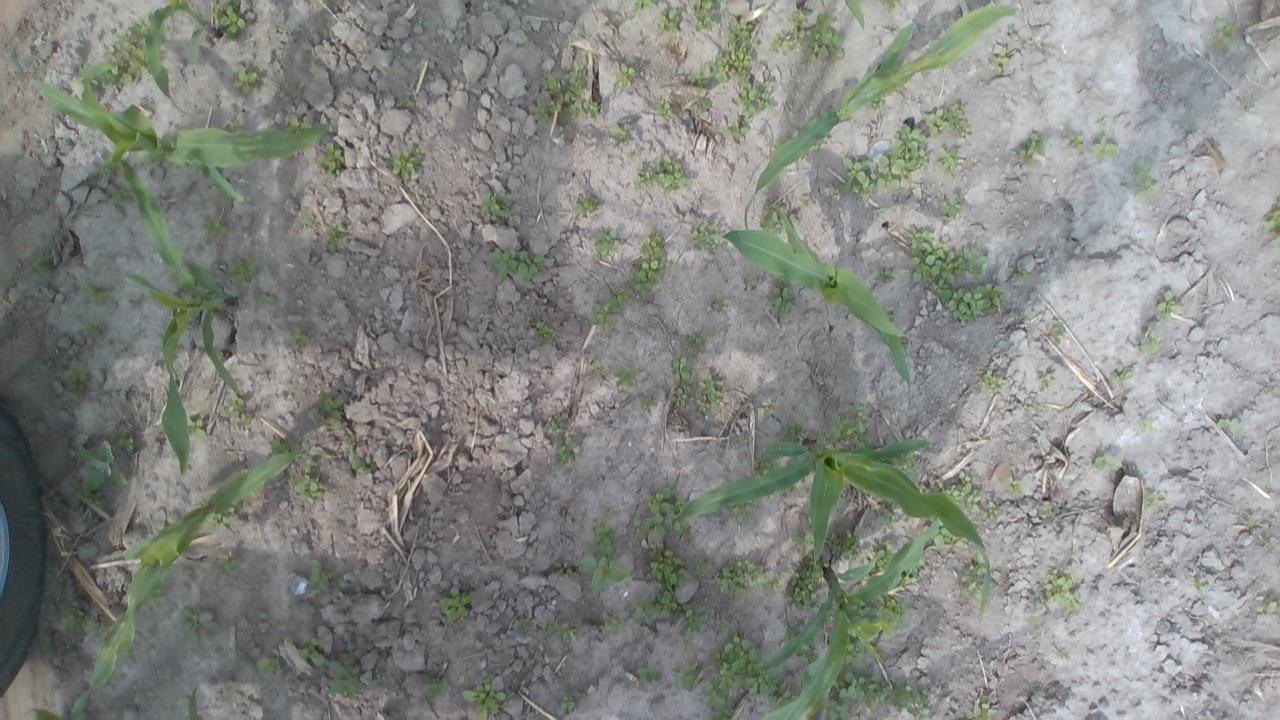Maize: (738, 0, 1021, 228), (666, 428, 994, 620), (70, 449, 296, 720), (105, 150, 240, 474), (28, 63, 332, 201), (695, 207, 912, 384), (754, 516, 941, 720), (142, 0, 220, 117), (29, 688, 210, 720), (796, 0, 891, 32)
Weeds: (701, 634, 798, 720), (906, 224, 989, 286), (531, 63, 603, 124), (577, 513, 632, 592), (92, 14, 148, 89), (927, 274, 1006, 326), (710, 14, 760, 82), (840, 154, 900, 210), (784, 10, 846, 62), (824, 666, 883, 720), (630, 487, 689, 538), (848, 590, 908, 638), (76, 440, 130, 493), (628, 234, 668, 298), (786, 553, 830, 610), (892, 122, 929, 187), (712, 560, 769, 600), (56, 600, 111, 640), (625, 588, 680, 628), (881, 677, 932, 720), (935, 468, 982, 514), (646, 542, 690, 590), (828, 405, 874, 449), (592, 287, 632, 336), (1039, 565, 1082, 610), (488, 249, 546, 282), (462, 678, 507, 720), (924, 100, 970, 138), (326, 650, 359, 699), (437, 584, 473, 626), (677, 600, 708, 647), (308, 390, 346, 428), (1008, 130, 1047, 167), (731, 77, 770, 114), (179, 606, 219, 642), (292, 460, 324, 503), (211, 2, 247, 40), (823, 529, 861, 565), (922, 516, 964, 548), (390, 144, 425, 182), (858, 542, 899, 574), (654, 156, 690, 192), (694, 374, 722, 415), (478, 190, 514, 221), (758, 203, 795, 233), (768, 278, 794, 320), (341, 441, 374, 474), (72, 480, 105, 512), (316, 141, 346, 176), (749, 447, 783, 477), (230, 63, 260, 97), (228, 392, 256, 428), (1206, 19, 1236, 52), (253, 646, 287, 674), (1154, 289, 1182, 321), (64, 356, 88, 393), (300, 632, 326, 666), (934, 144, 960, 178), (1134, 158, 1154, 202), (691, 222, 720, 252), (690, 0, 719, 30), (669, 662, 700, 690), (884, 450, 916, 477), (306, 557, 331, 591), (226, 256, 256, 284), (142, 576, 170, 606), (1088, 448, 1123, 472), (206, 506, 238, 532), (1093, 136, 1121, 165), (895, 559, 925, 586), (956, 575, 982, 606), (656, 7, 684, 35), (840, 640, 867, 669), (284, 108, 316, 132), (558, 432, 578, 470), (974, 368, 1007, 391), (532, 317, 560, 344), (1138, 330, 1166, 356), (596, 230, 620, 260), (82, 282, 112, 306), (731, 498, 757, 525), (1141, 483, 1169, 508), (637, 664, 666, 688), (724, 117, 749, 144), (683, 329, 711, 353), (184, 415, 210, 440), (780, 420, 806, 445), (422, 674, 449, 698), (214, 556, 243, 578), (203, 216, 227, 242), (942, 193, 962, 224), (798, 634, 820, 662), (602, 609, 624, 637), (557, 622, 585, 644), (324, 223, 344, 252), (1050, 316, 1068, 348), (614, 62, 638, 85), (874, 265, 899, 287), (670, 356, 691, 382), (614, 366, 638, 388), (254, 286, 278, 308), (30, 254, 54, 276), (1112, 368, 1134, 392), (977, 694, 997, 720), (969, 548, 987, 576), (792, 528, 814, 550), (878, 507, 899, 530), (608, 122, 632, 142), (84, 318, 108, 338), (1214, 417, 1242, 434), (37, 624, 53, 653), (1008, 264, 1033, 282), (670, 385, 691, 406), (574, 196, 596, 216), (110, 184, 130, 206), (1008, 478, 1030, 498), (769, 31, 793, 49), (558, 693, 578, 714), (632, 167, 653, 187), (710, 294, 729, 316), (269, 438, 295, 454), (980, 500, 1000, 520), (554, 560, 576, 578), (542, 418, 566, 434), (1264, 206, 1280, 230), (767, 574, 786, 594), (1254, 600, 1280, 614), (118, 432, 136, 452), (1038, 372, 1056, 392), (694, 557, 712, 577), (656, 98, 672, 120), (1189, 575, 1208, 593), (781, 622, 800, 640), (992, 46, 1009, 66), (1040, 499, 1056, 518), (1068, 134, 1087, 150), (692, 69, 708, 88), (640, 396, 656, 414), (290, 326, 306, 344), (868, 94, 886, 110), (630, 0, 656, 10), (714, 616, 730, 632), (1138, 416, 1154, 432), (698, 95, 712, 112), (518, 615, 530, 634), (816, 432, 832, 446), (810, 134, 830, 145), (1032, 610, 1042, 630), (542, 623, 554, 639), (1267, 234, 1280, 247), (142, 149, 153, 164), (783, 484, 797, 494), (1246, 517, 1256, 530), (886, 0, 900, 9), (232, 120, 244, 130), (963, 158, 976, 166), (419, 192, 428, 198)
